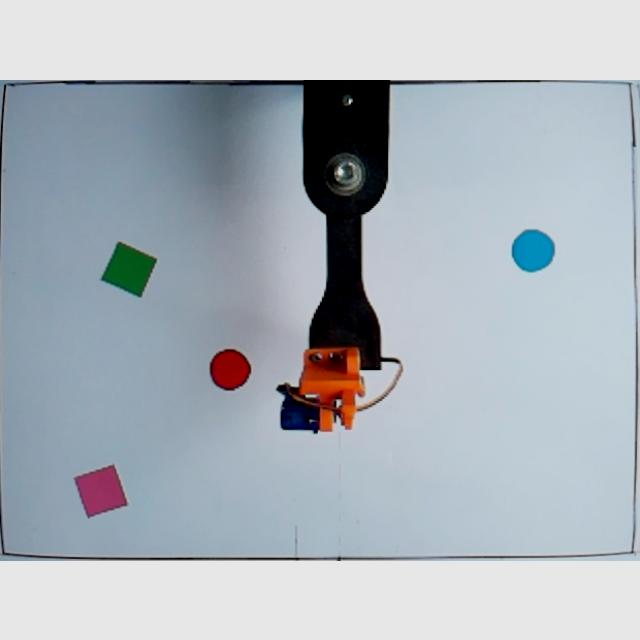blueCircle: (512, 225, 556, 272)
greenSquare: (100, 240, 158, 298)
pinkSquare: (76, 462, 130, 518)
redCircle: (210, 345, 252, 393)
